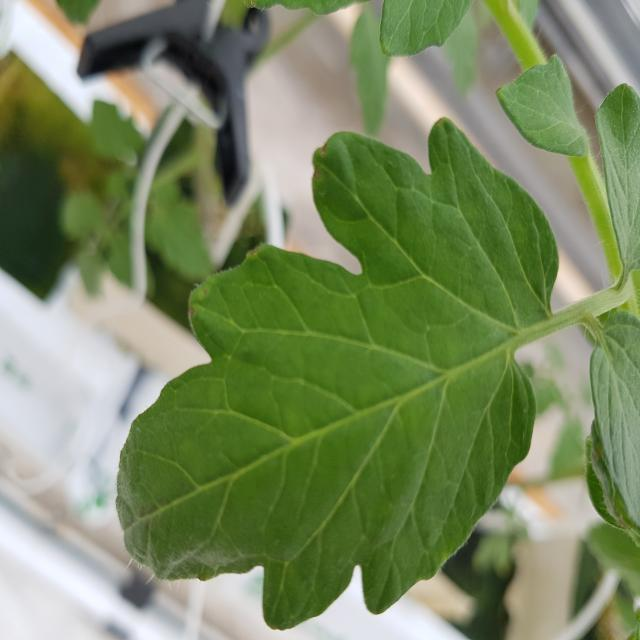Healthy Leaf: (118, 118, 562, 631), (590, 312, 640, 531), (499, 56, 592, 157)
